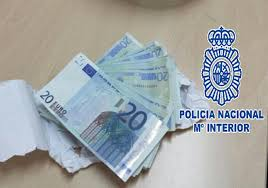billete: (33, 33, 208, 184)
